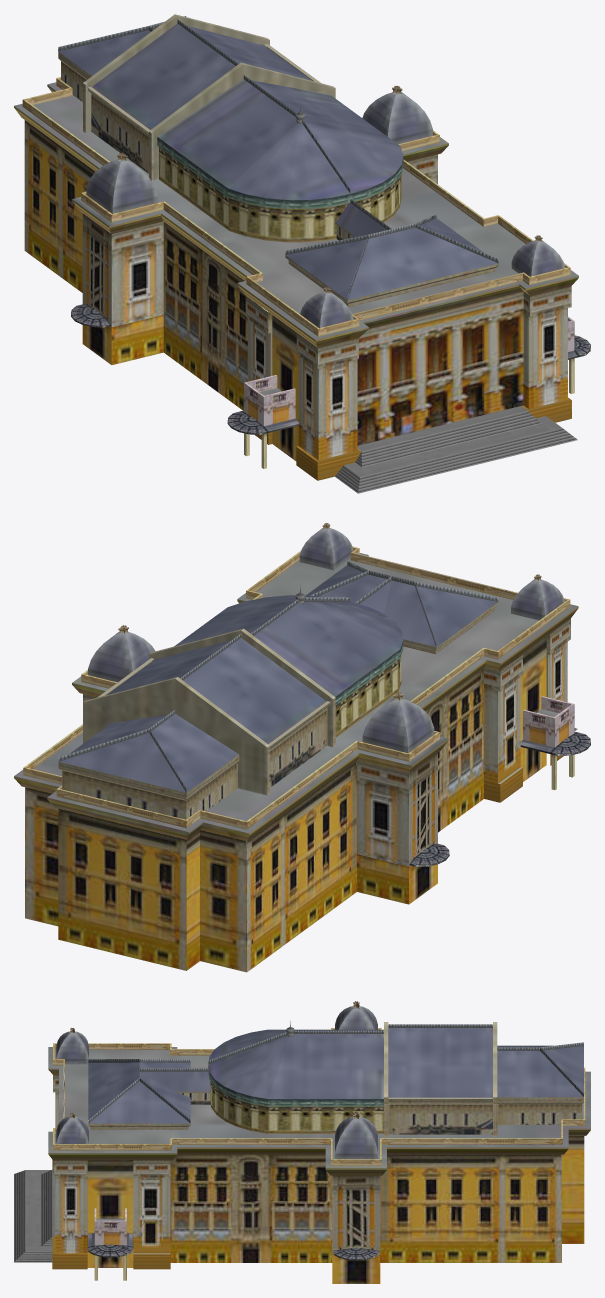
3 renders of one model, top to bottom at view 1: azimuth 30°, elevation 25°; view 2: azimuth 150°, elevation 25°; view 3: azimuth 270°, elevation 25°, orthographic. The views are drawn at different scales.
Parts seen in each view (by area): view 1: 5dd5ef727072cc1bd409fc9a; view 2: 5dd5ef727072cc1bd409fc9a; view 3: 5dd5ef727072cc1bd409fc9a.
Part boxes in pixels (x1,y1,x2,y2): 5dd5ef727072cc1bd409fc9a: [14, 14, 590, 493]; 5dd5ef727072cc1bd409fc9a: [14, 523, 590, 972]; 5dd5ef727072cc1bd409fc9a: [14, 1001, 590, 1283].
Bounding box in the file's own units: 52.57 × 32.81 × 85.93.
Materials: 1 (1 with a texture image).
